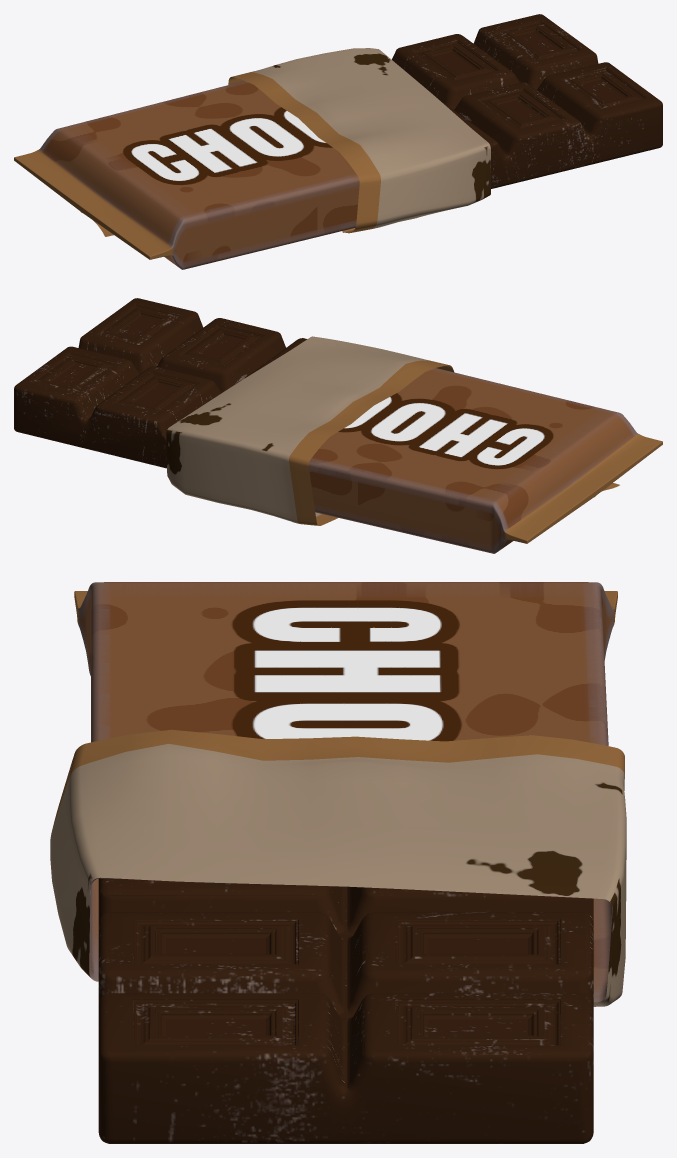
File: chocolate_bar-D_tfyEao.glb
3 views of the same model, one above another, from view 1: azimuth 30°, elevation 25°; view 2: azimuth 150°, elevation 25°; view 3: azimuth 270°, elevation 25° (orthographic). The views are drawn at different scales.
Visible parts, largest first — view 1: Wrapper_ModelMain_1, Chocolate_ModelMain_0; view 2: Wrapper_ModelMain_1, Chocolate_ModelMain_0; view 3: Wrapper_ModelMain_1, Chocolate_ModelMain_0.
Part boxes in pixels (<box>): Wrapper_ModelMain_1: <box>14,48,490,269</box>; Chocolate_ModelMain_0: <box>392,14,662,188</box>; Wrapper_ModelMain_1: <box>166,336,662,553</box>; Chocolate_ModelMain_0: <box>14,298,307,468</box>; Wrapper_ModelMain_1: <box>50,582,626,1006</box>; Chocolate_ModelMain_0: <box>98,878,593,1143</box>.
Size of the model in its own units: 3.71 by 0.5787 by 1.77.
2 materials, 2 textured.
